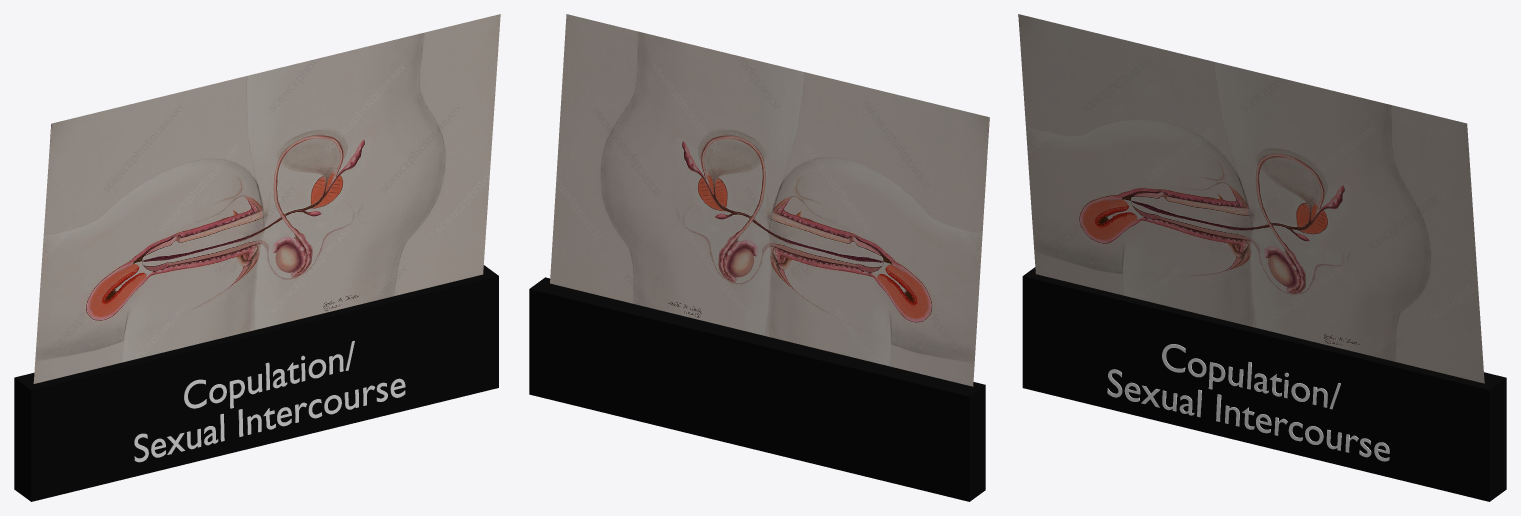
Rendered from copulation.gltf.
The picture shows the model from 3 angles, left to right: view 1: azimuth 30°, elevation 25°; view 2: azimuth 150°, elevation 25°; view 3: azimuth 330°, elevation 25°; orthographic projection. The views are drawn at different scales.
Parts seen in each view (by area): view 1: copulation, Cube.002, Text.002; view 2: copulation, Cube.002; view 3: copulation, Cube.002, Text.002.
Part boxes in pixels (x1,y1,x2,y2): copulation: (33,14,500,383); Cube.002: (14,265,498,501); Text.002: (134,341,405,462); copulation: (550,14,989,386); Cube.002: (529,277,985,501); copulation: (1018,14,1484,383); Cube.002: (1022,267,1506,501); Text.002: (1107,344,1389,461).
Bounding box in the file's own units: 3.34 × 2.63 × 0.3607.
2 materials, 1 textured.
